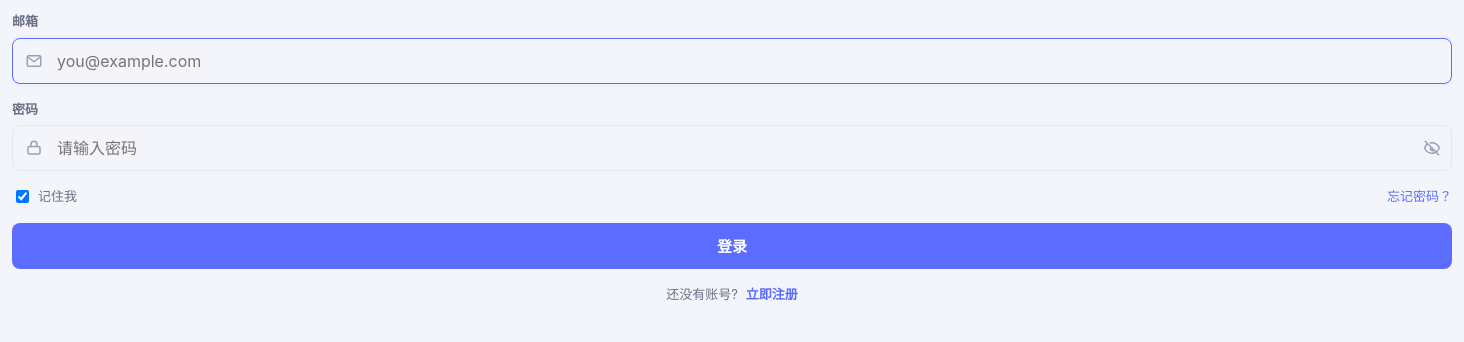
it: LoginForm.vue › requires at least 6 characters for the password
This screenshot has width=1464, height=342.
In the field labelled "邮箱": (753, 60) top-left (55, 38), bottom-right (1451, 82), type "good@example.com"
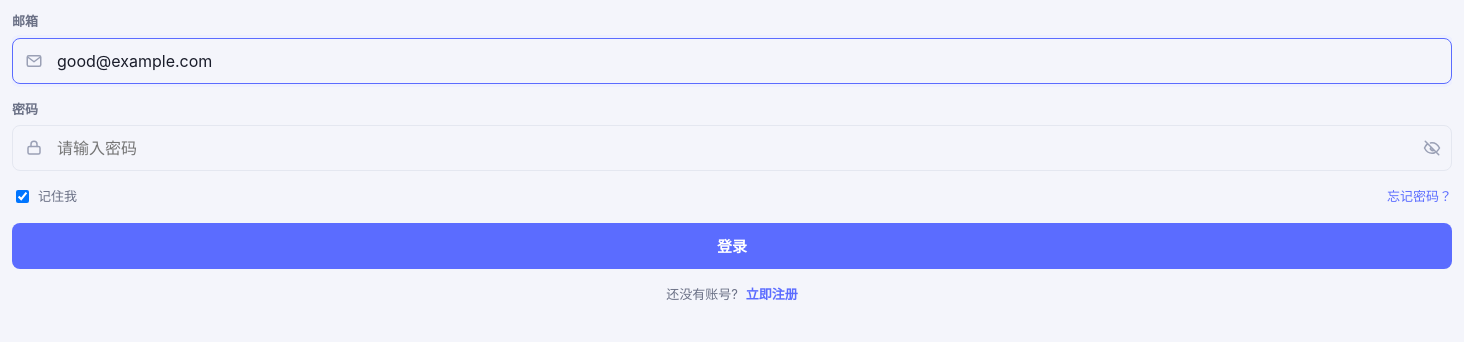
In the password field labelled "密码": (734, 148) top-left (55, 126), bottom-right (1413, 170), type "12345"
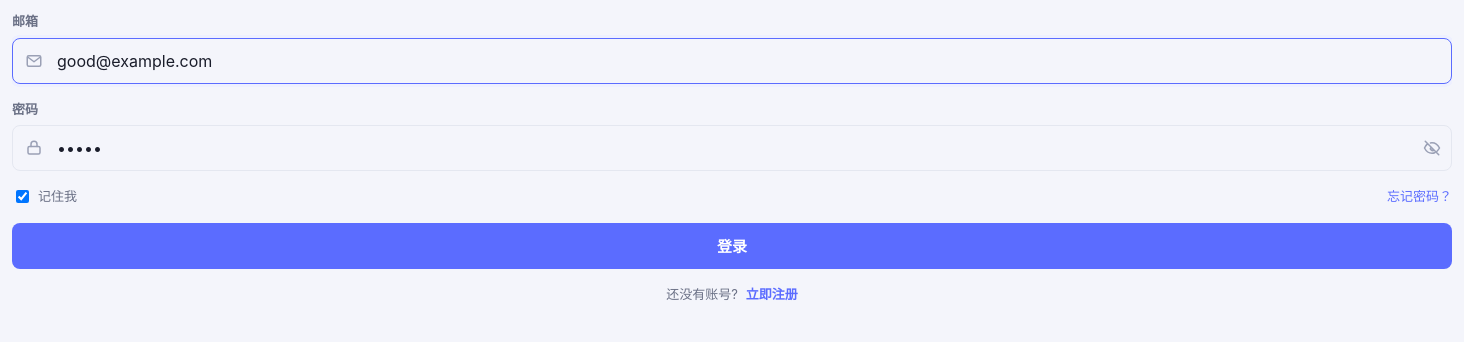
Submit the form
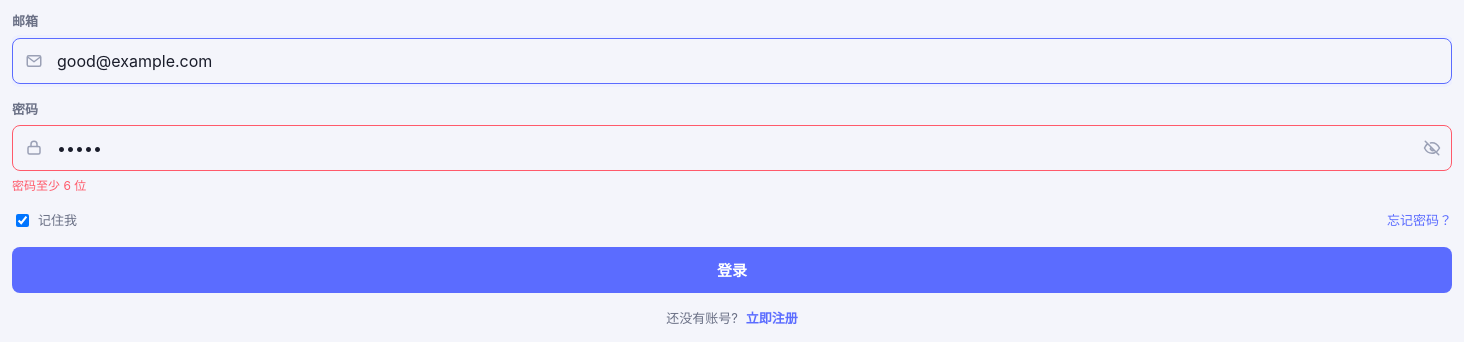
Expected: the form shows "密码至少 6 位", top-left (12, 178), bottom-right (86, 193)
